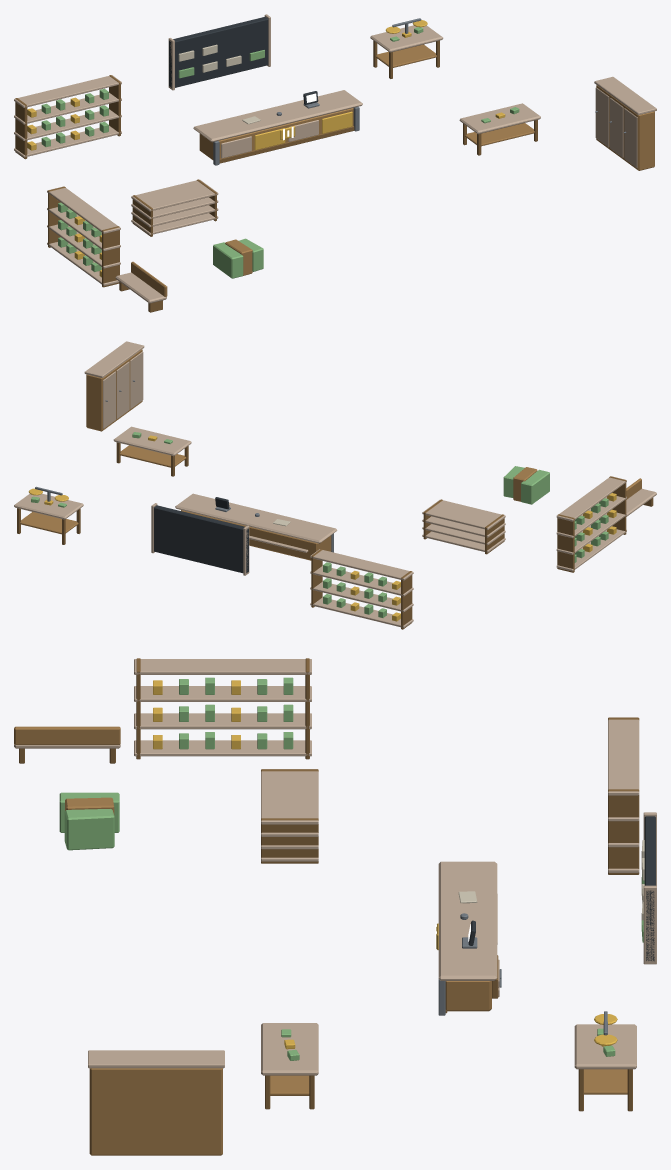
File: brightcart_general_house.glb
3 renders of one model, top to bottom at view 1: azimuth 30°, elevation 25°; view 2: azimuth 150°, elevation 25°; view 3: azimuth 270°, elevation 25°, orthographic. The views are drawn at different scales.
Bounding box in the file's own units: 21.84 × 2.79 × 14.45.
